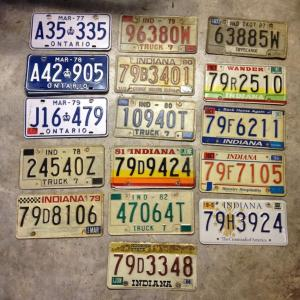Vehicle-registration-plate: (113, 192, 200, 244), (110, 243, 199, 293), (201, 200, 295, 246), (19, 193, 105, 241), (202, 150, 288, 198), (22, 144, 106, 192), (109, 146, 196, 192), (113, 97, 196, 143), (25, 96, 109, 139), (32, 13, 112, 57), (203, 108, 286, 150), (207, 64, 288, 106), (28, 56, 109, 97), (116, 57, 197, 98), (206, 18, 287, 59), (119, 16, 197, 55)
